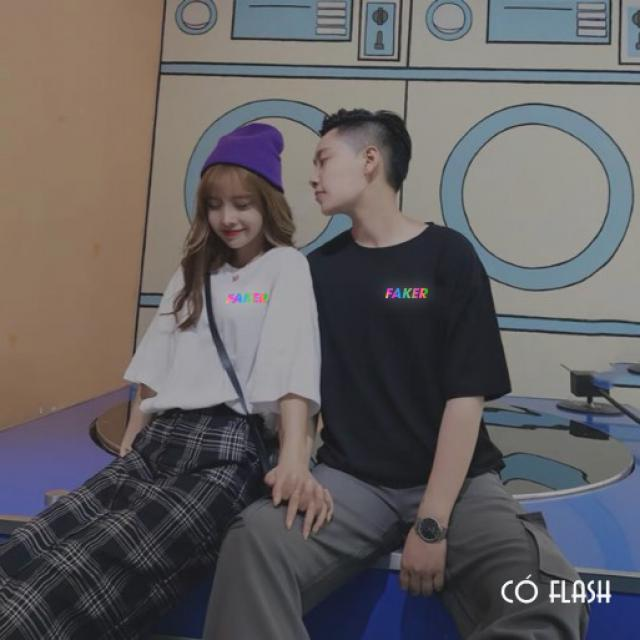Shirt: (303, 223, 509, 479), (124, 230, 324, 422)
